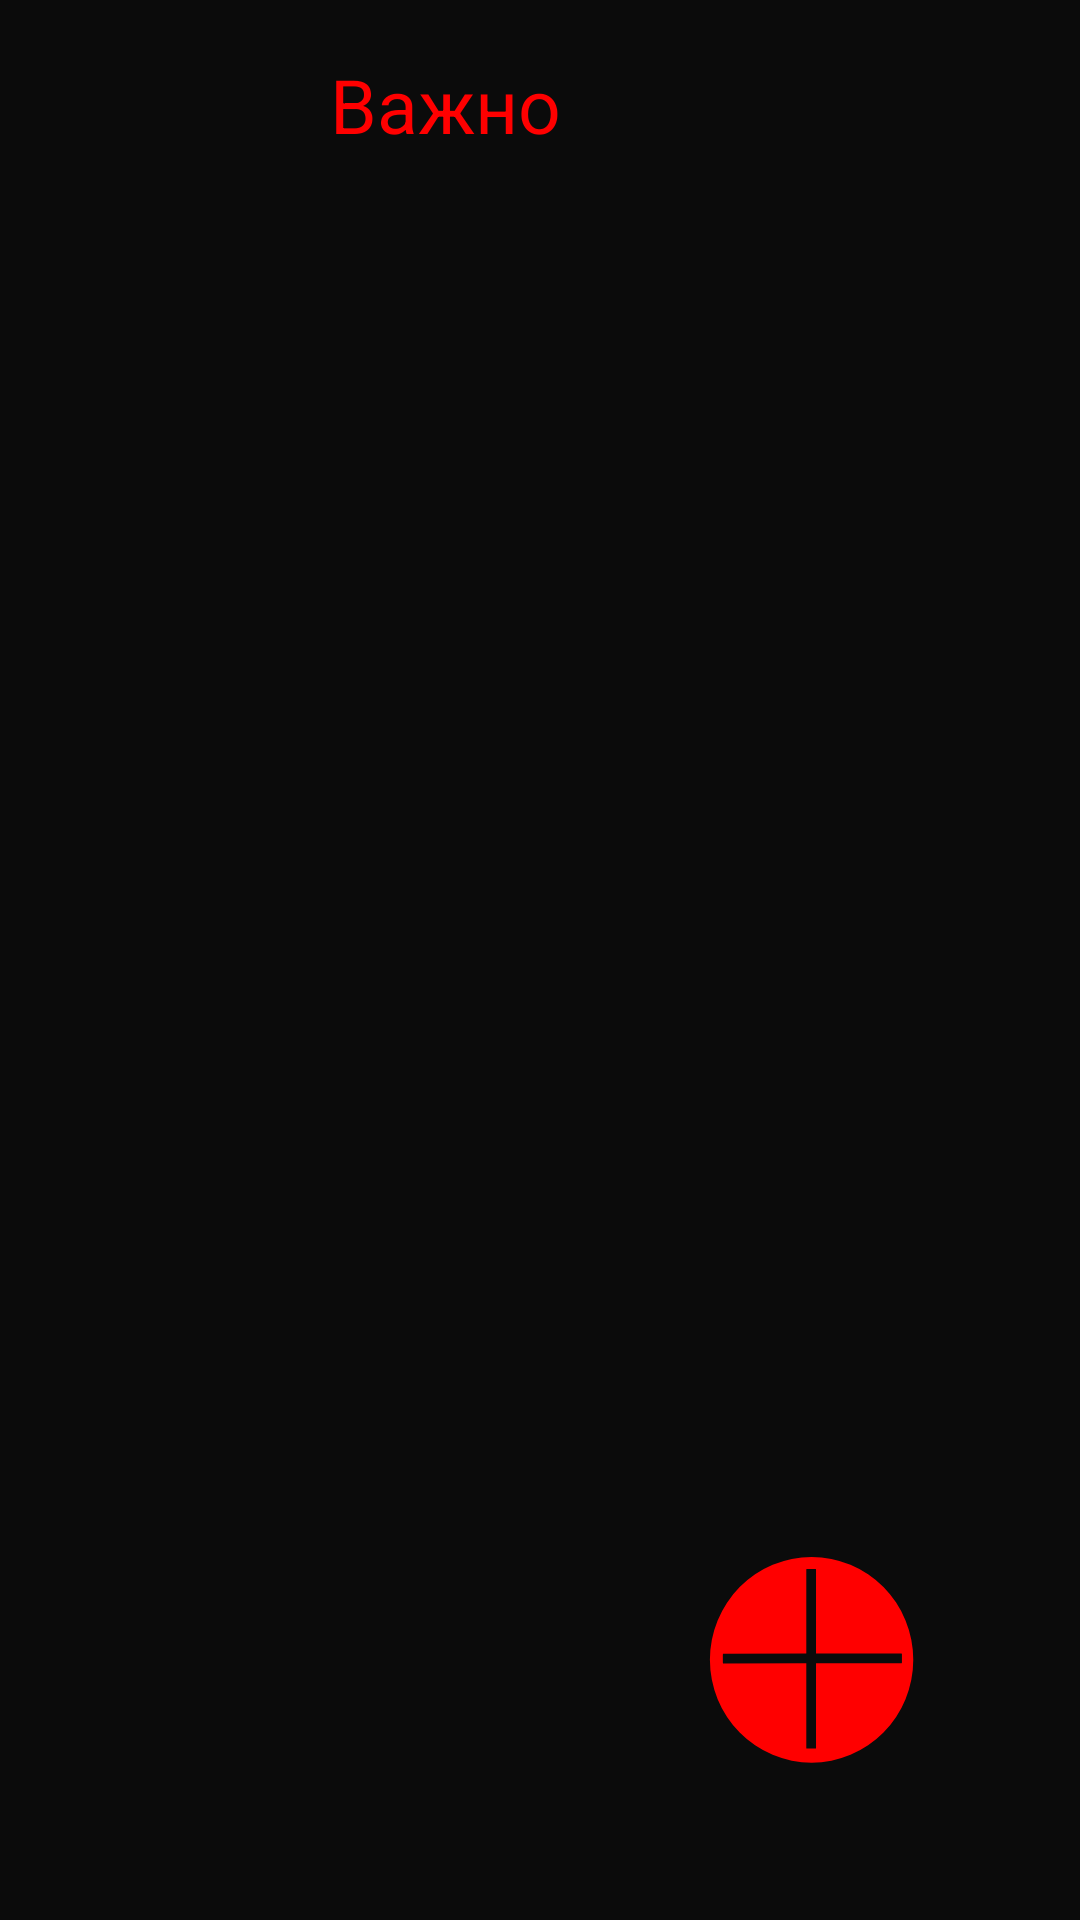

Where icons sit on this 1080px×1920px app screen, as (x1, y1, x2, y2):
plus: (710, 1557, 914, 1763)
